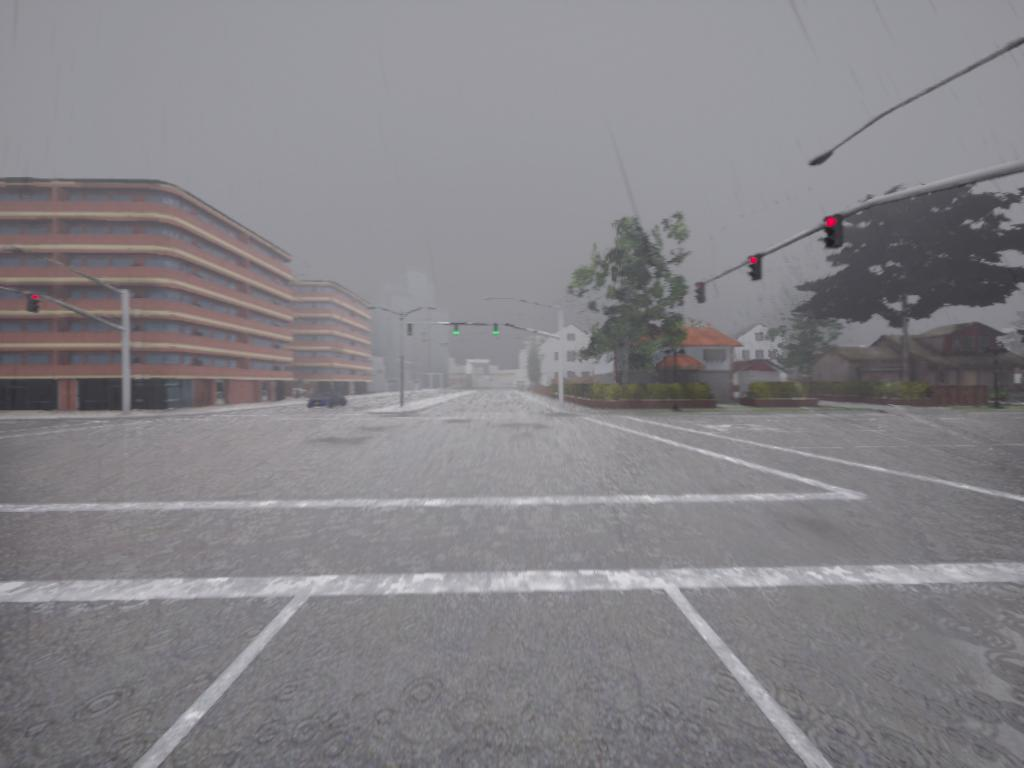traffic_light: (823, 218, 845, 249), (750, 258, 765, 283), (694, 281, 708, 307), (30, 295, 42, 312), (406, 321, 415, 339), (491, 326, 502, 338), (452, 328, 462, 339)
